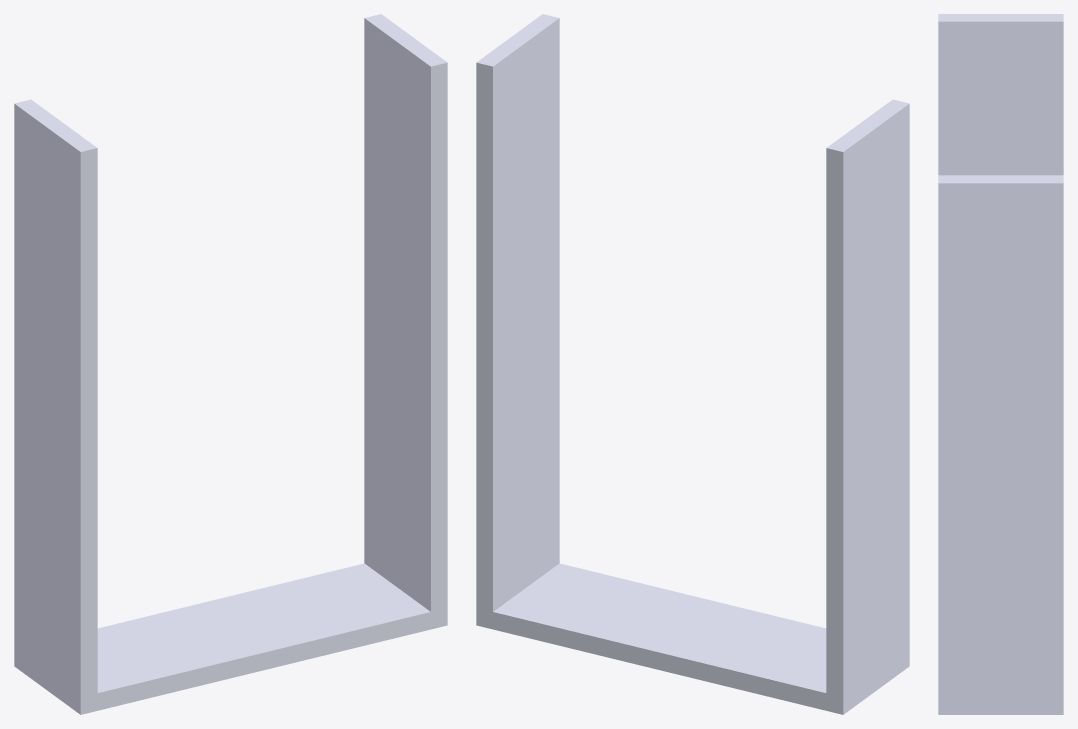
Rendered from f542c557-bb2f-41da-a5de-50272e11caa4.glb.
3 renders of one model, left to right at view 1: azimuth 30°, elevation 25°; view 2: azimuth 150°, elevation 25°; view 3: azimuth 270°, elevation 25°, orthographic. The views are drawn at different scales.
Parts seen in each view (by area): view 1: u_AlphaProta_Grey; view 2: u_AlphaProta_Grey; view 3: u_AlphaProta_Grey.
Part boxes in pixels (x1=…): u_AlphaProta_Grey: x1=14, y1=14, x2=447, y2=714; u_AlphaProta_Grey: x1=476, y1=14, x2=909, y2=714; u_AlphaProta_Grey: x1=938, y1=14, x2=1063, y2=714.
Size of what is drawn, in the model's own units: 0.1436 by 0.2105 by 0.045.
2 materials, 2 textured.
